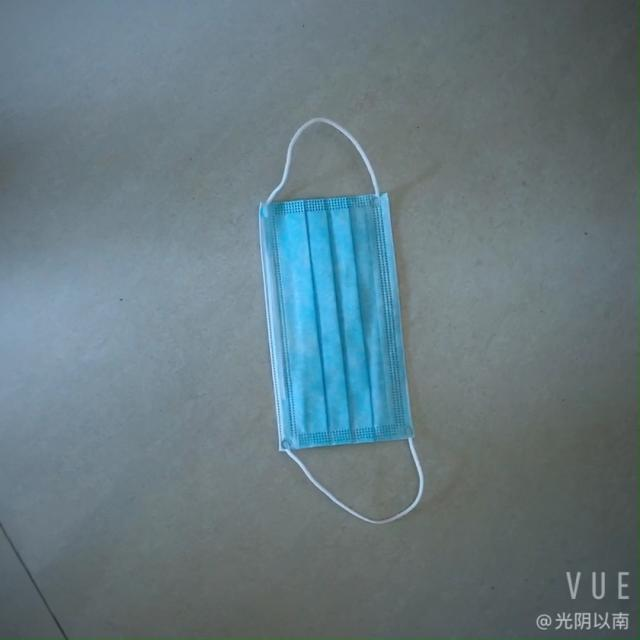non-organic waste: (248, 177, 422, 467)
